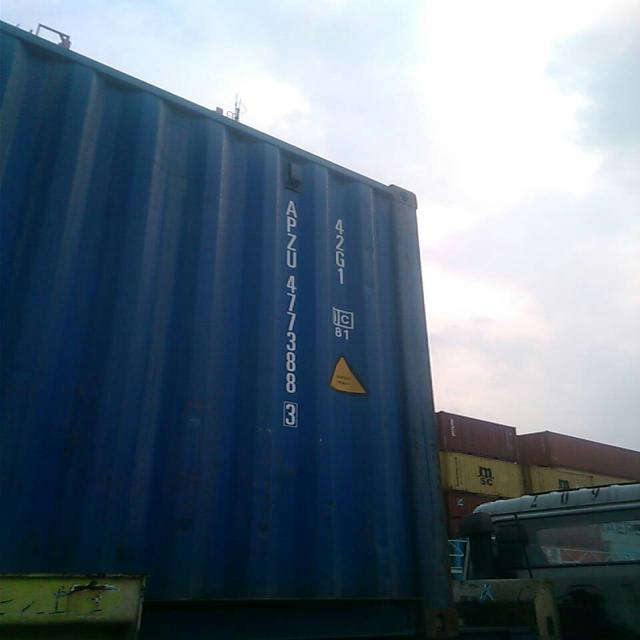rust: (407, 424, 456, 640)
